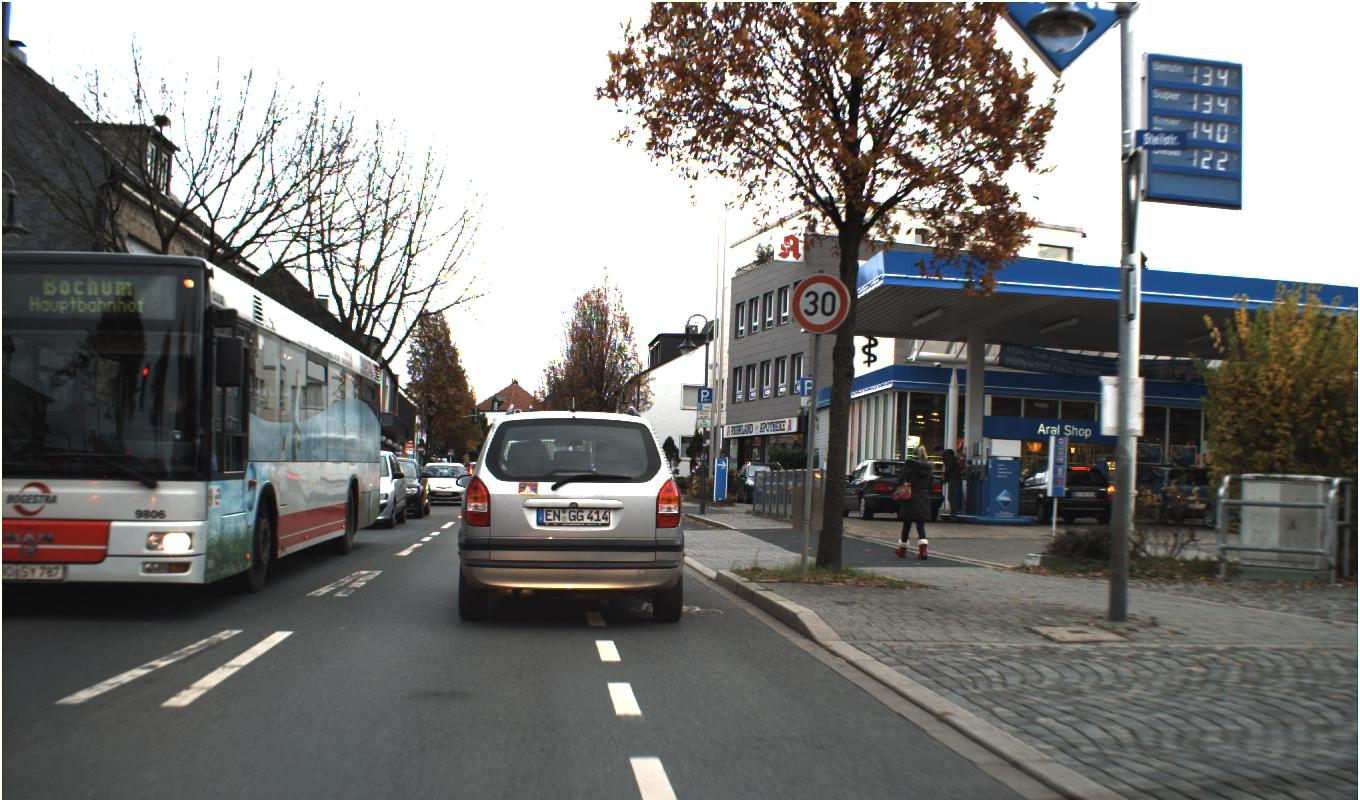prohibitory: (790, 273, 850, 334)
